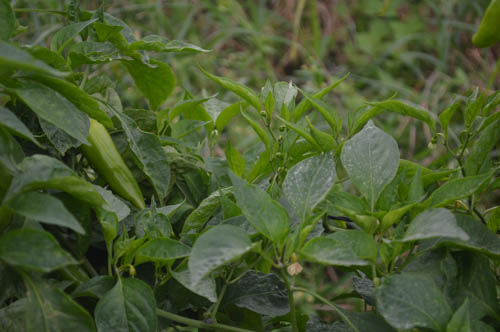ChiliPepper: (81, 119, 146, 216)
